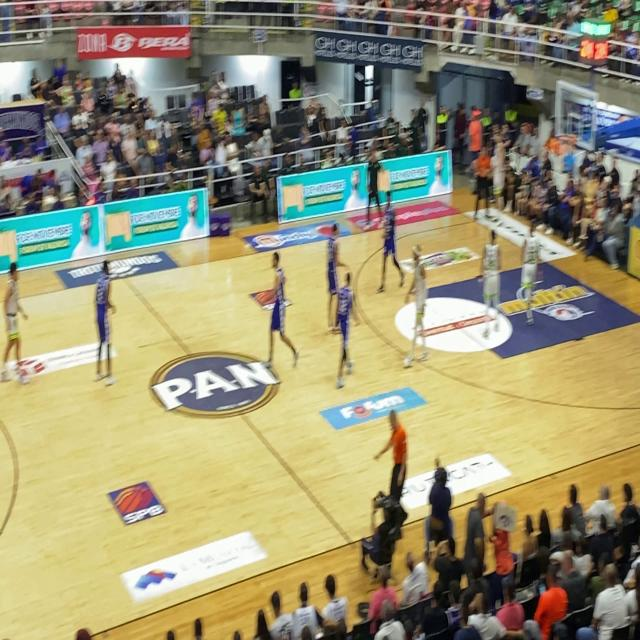team2: (92, 247, 122, 372), (333, 259, 362, 384)
